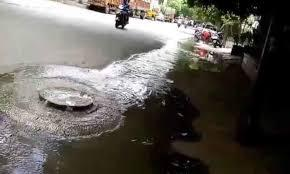drainage_overflow: (0, 63, 207, 160)
